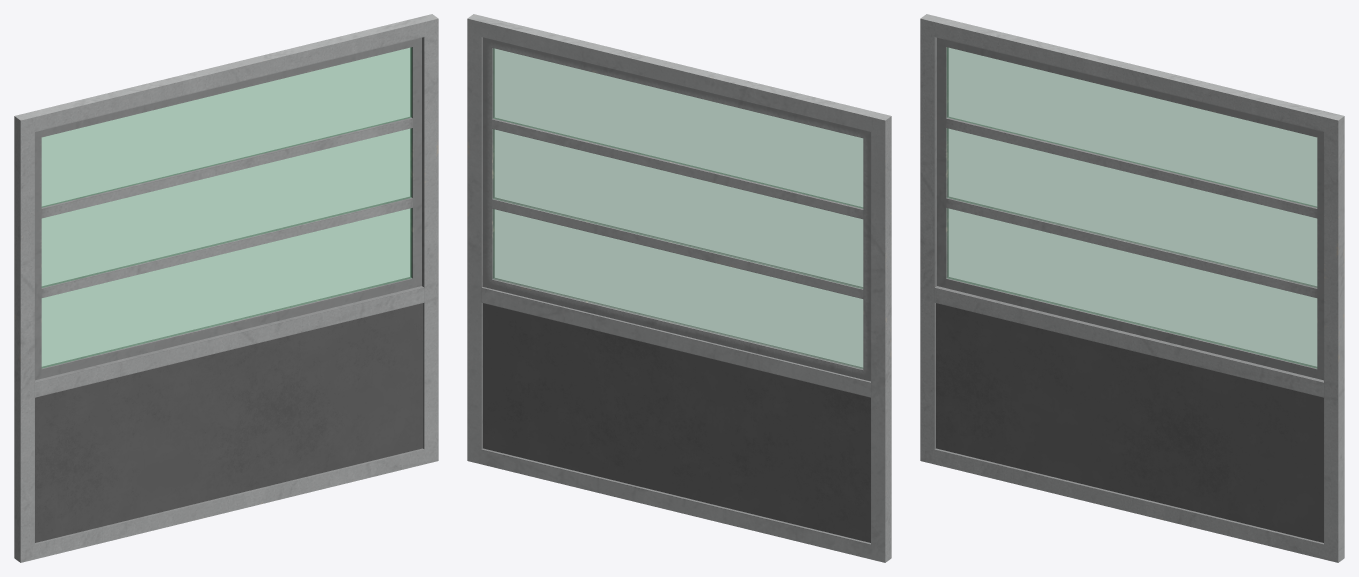
File: Divider.fbx
3 views of the same model, side by side, from view 1: azimuth 30°, elevation 25°; view 2: azimuth 150°, elevation 25°; view 3: azimuth 330°, elevation 25° (orthographic).
Visible parts, largest first — view 1: Divider; view 2: Divider; view 3: Divider.
Part boxes in pixels (<box>): Divider: <box>14,14,438,562</box>; Divider: <box>467,14,891,562</box>; Divider: <box>920,14,1344,562</box>.
Size of the model in its own units: 214 by 217 by 5.61.
